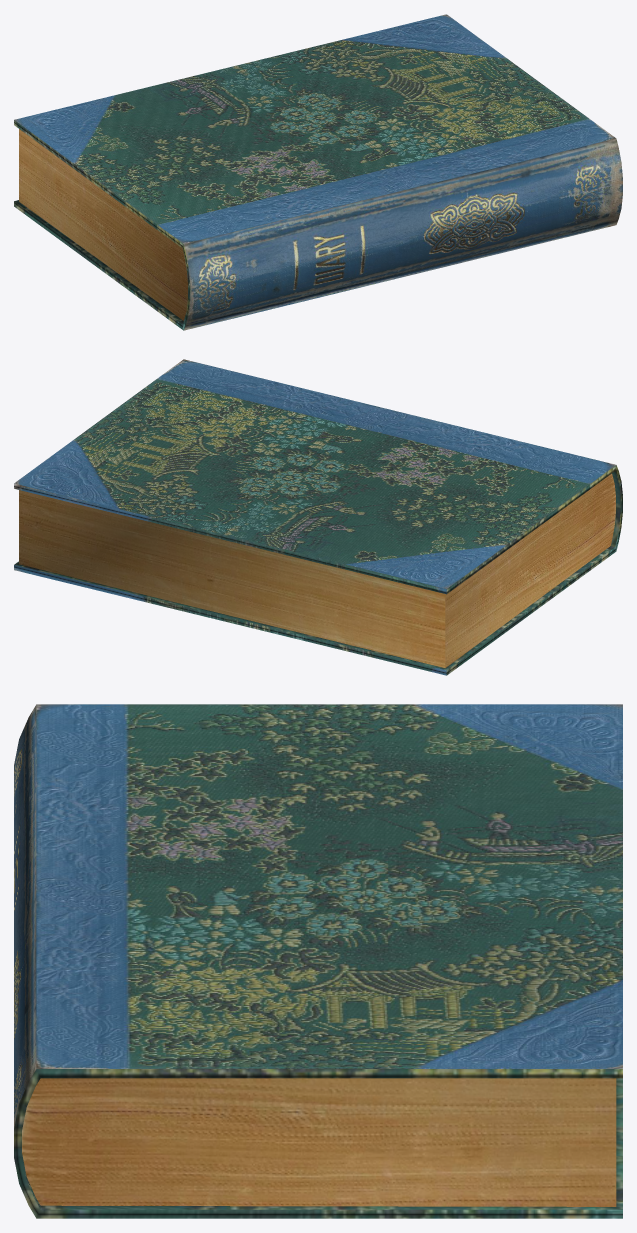
Rendered from Book_10.obj.
The picture shows the model from 3 angles, top to bottom: view 1: azimuth 30°, elevation 25°; view 2: azimuth 150°, elevation 25°; view 3: azimuth 270°, elevation 25°; orthographic projection. The views are drawn at different scales.
Parts seen in each view (by area): view 1: Book.010_Cube.011; view 2: Book.010_Cube.011; view 3: Book.010_Cube.011.
Boxes of the visible parts, <box> form: Book.010_Cube.011: <box>14,14,622,330</box>; Book.010_Cube.011: <box>14,359,622,675</box>; Book.010_Cube.011: <box>14,704,622,1218</box>.
Bounding box in the file's own units: 1.95 × 0.3727 × 1.37.
